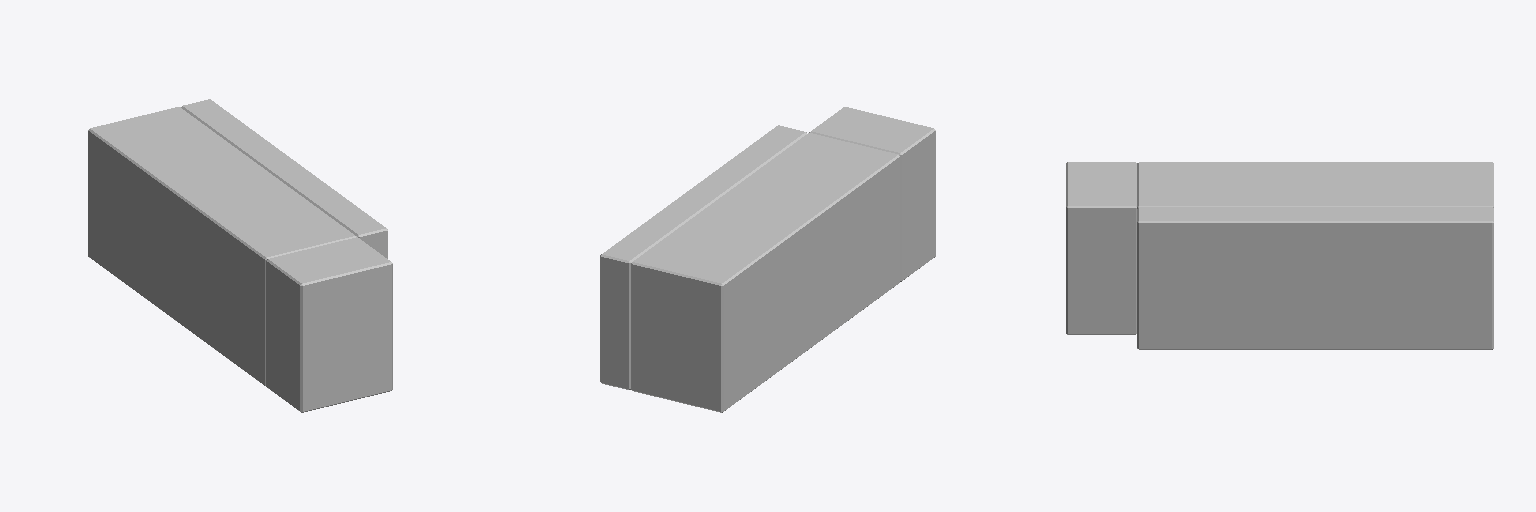
Rendered from demo_diff_not_printable.obj.
3 renders of one model, left to right at view 1: azimuth 30°, elevation 25°; view 2: azimuth 150°, elevation 25°; view 3: azimuth 270°, elevation 25°, orthographic.
Bounding box in the file's own units: 4 × 4 × 12.